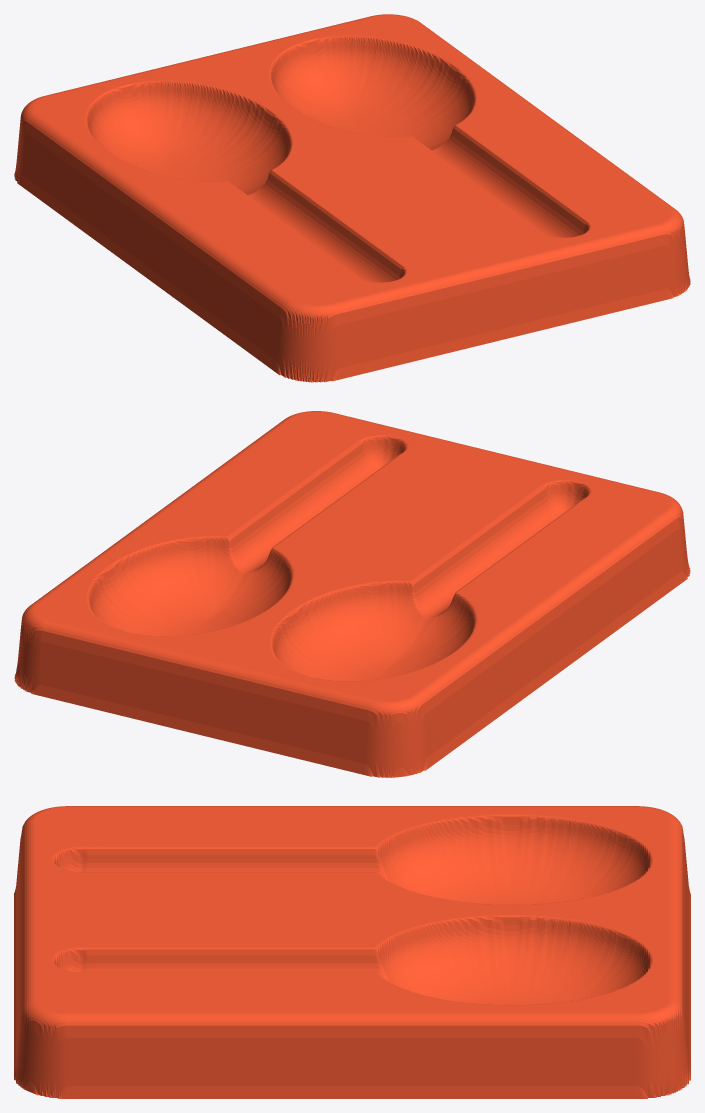
Rendered from mold.glb.
The picture shows the model from 3 angles, top to bottom: view 1: azimuth 30°, elevation 25°; view 2: azimuth 150°, elevation 25°; view 3: azimuth 270°, elevation 25°; orthographic projection. The views are drawn at different scales.
Visible parts, largest first — view 1: geometry_0; view 2: geometry_0; view 3: geometry_0.
Part boxes in pixels (x1,y1,x2,y2): geometry_0: (14,14,690,382); geometry_0: (14,411,690,777); geometry_0: (14,806,690,1098).
Bounding box in the file's own units: 0.0905 × 0.0145 × 0.1158.
